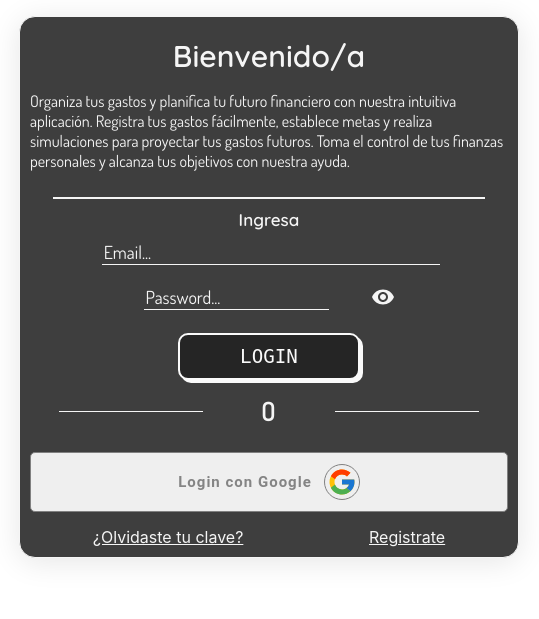
login process works correctly › should specific error when submitting edited form
In the field: (271, 252) [102,240,440,265], type "textoPrueba"
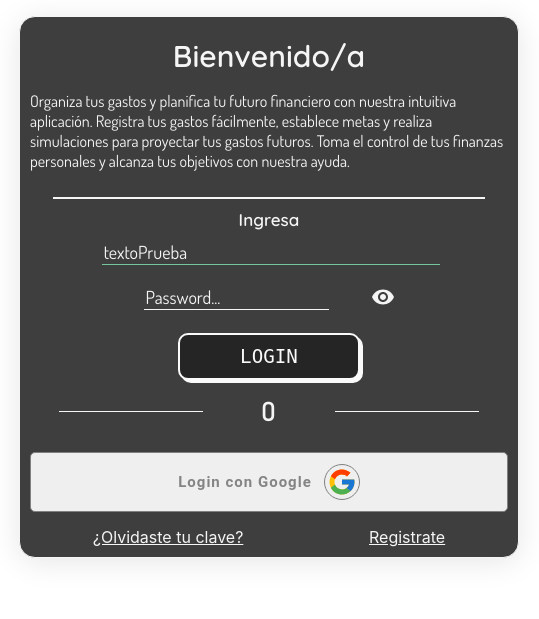
Click the button "Login": (269, 356) [178,333,360,380]
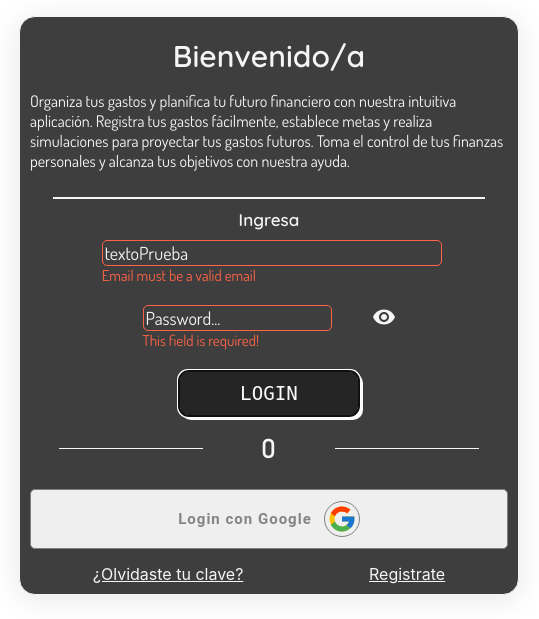
Check: the text "Email must be a valid email" is shown, box [102,266,256,285]
